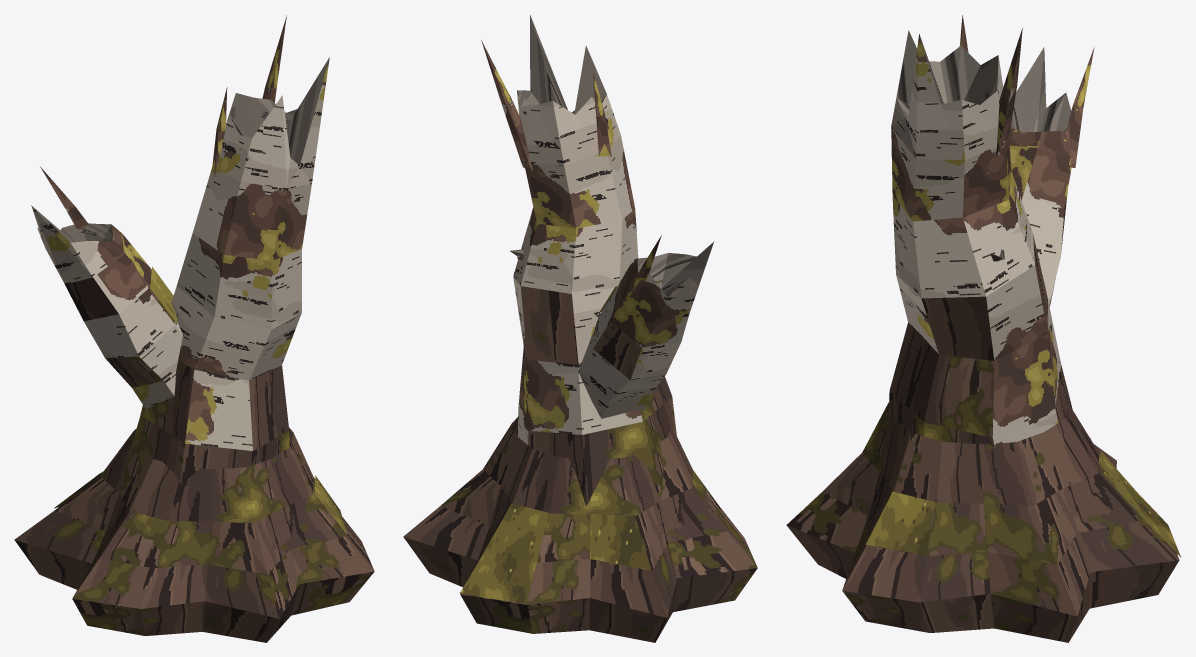
File: SM_SW07_ForkSnag.fbx
3 views of the same model, side by side, from view 1: azimuth 30°, elevation 25°; view 2: azimuth 150°, elevation 25°; view 3: azimuth 270°, elevation 25° (orthographic). The views are drawn at different scales.
Parts seen in each view (by area): view 1: SW07b_Bark, SW07b_Birch, SW07b_Props, SW07b_Moss; view 2: SW07b_Bark, SW07b_Birch, SW07b_Moss, SW07b_Props; view 3: SW07b_Bark, SW07b_Birch, SW07b_Props, SW07b_Moss.
Boxes of the visible parts, x1,y1,x2,y2 form: SW07b_Bark: (14,268,374,642); SW07b_Birch: (31,15,329,450); SW07b_Props: (34,57,329,246); SW07b_Moss: (54,266,347,534); SW07b_Bark: (403,286,757,642); SW07b_Birch: (481,40,710,445); SW07b_Moss: (460,286,651,604); SW07b_Props: (510,15,713,296); SW07b_Bark: (786,197,1179,642); SW07b_Birch: (891,15,1094,447); SW07b_Props: (897,30,1071,260); SW07b_Moss: (866,197,1181,557).
Bounding box in the file's own units: 2.19 × 3.71 × 2.22.
